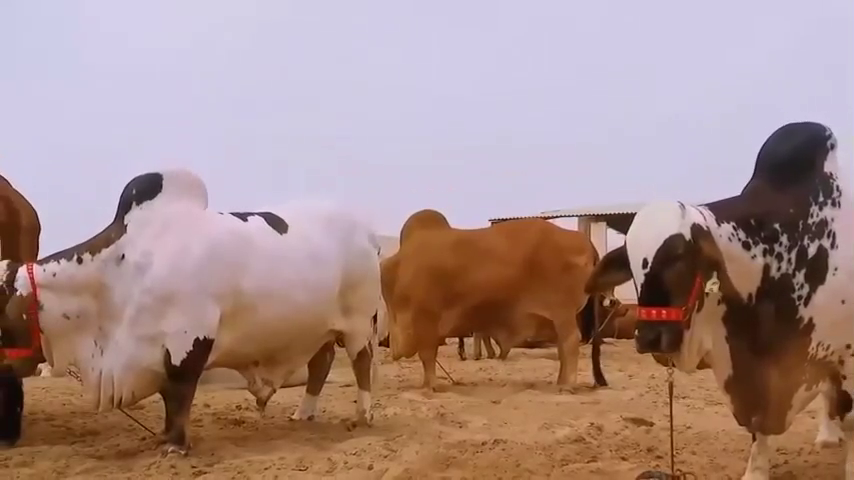bo: (7, 161, 390, 466), (571, 115, 854, 480), (367, 196, 601, 402)
